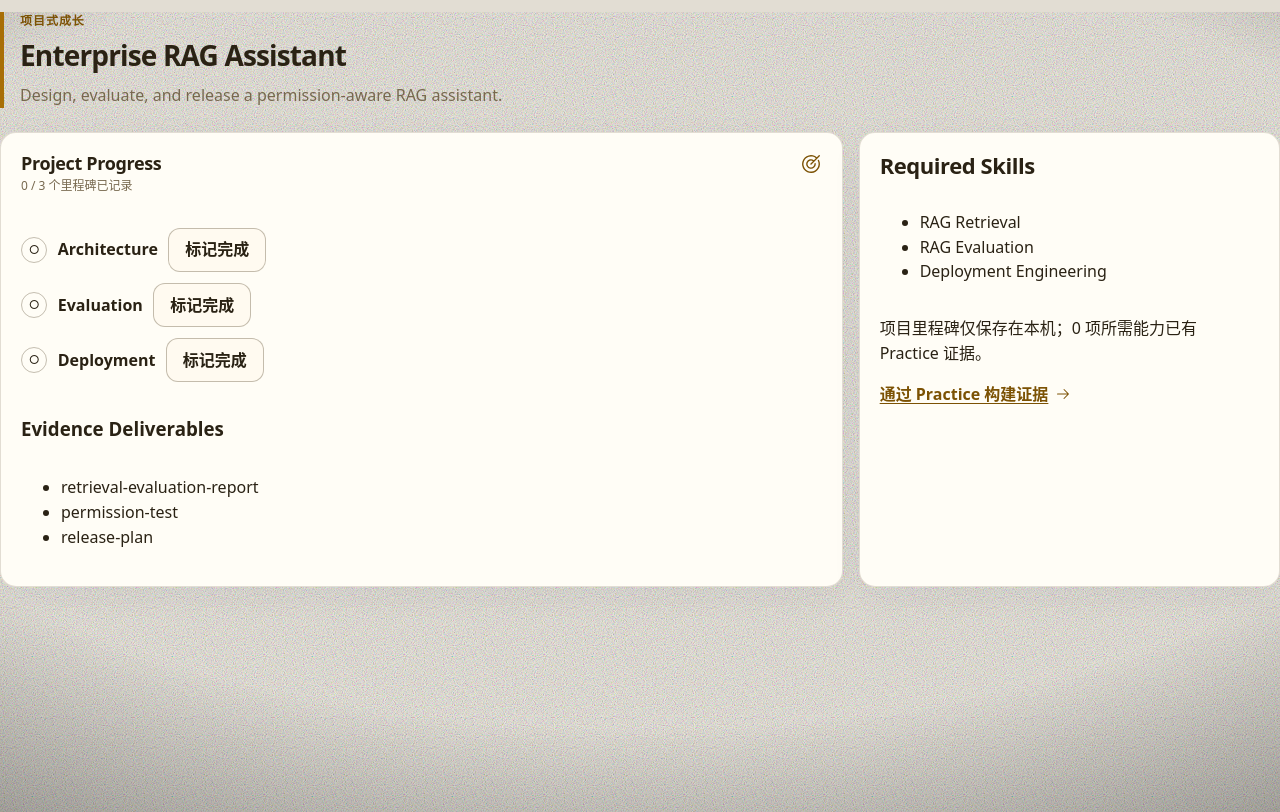
Test: Beta productization pages › records Project milestones independently
This screenshot has width=1280, height=812.
Expected: the heading "Enterprise RAG Assistant" is shown, [20,36,346,74]
Expected: the text "Architecture" is shown, [58,238,158,262]
Click the button "标记完成" next to "Architecture" at (217, 250), box [168,228,266,272]
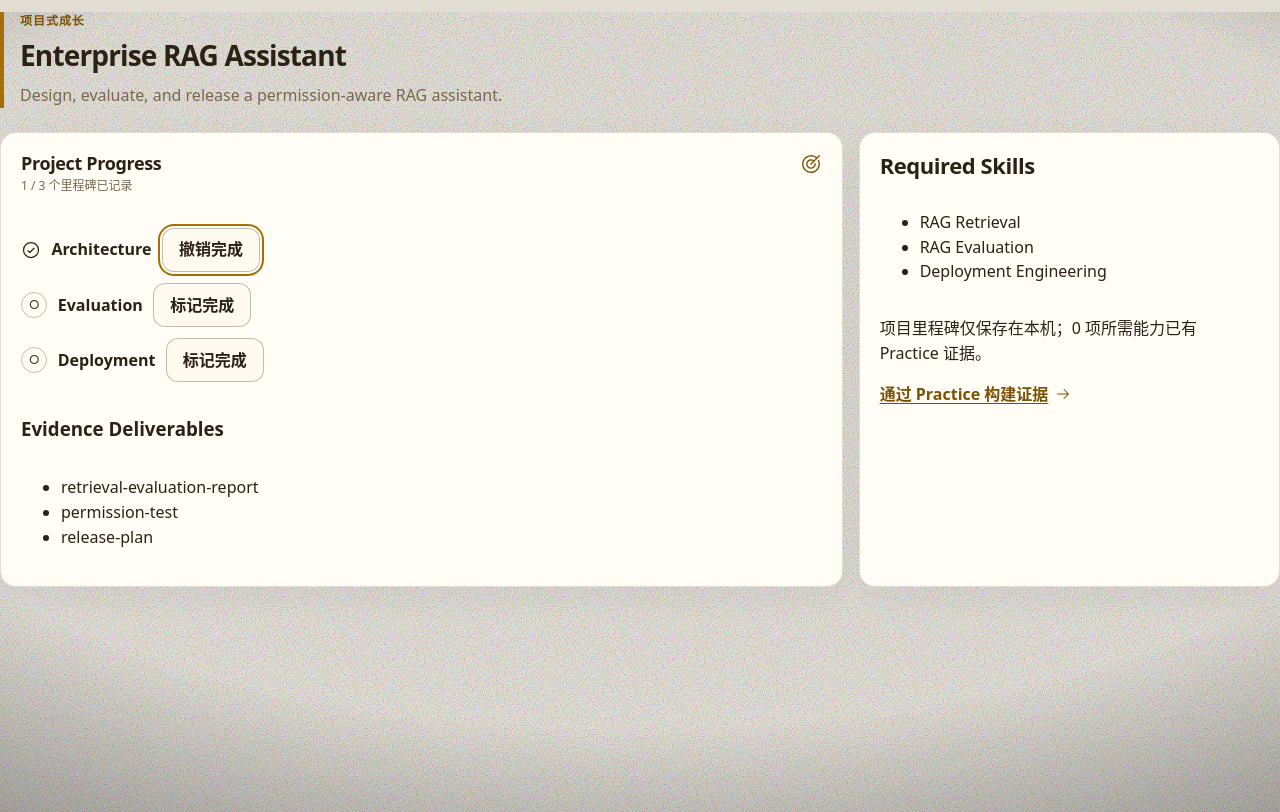
Expected: the text "1 / 3 个里程碑已记录" is shown, [21,177,133,194]
